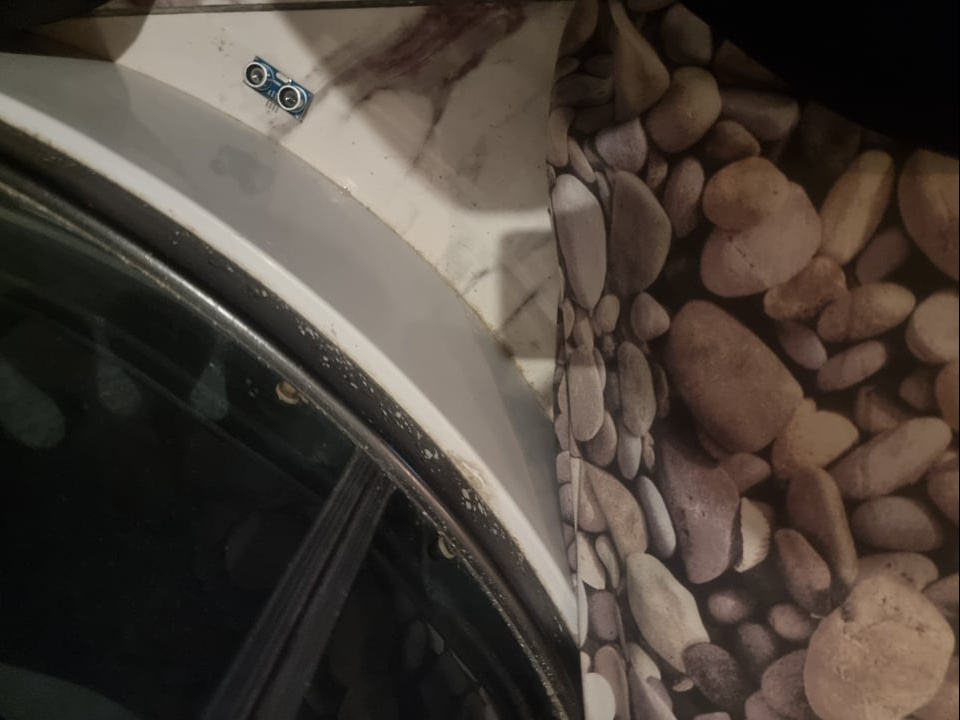SENSOR: (242, 54, 314, 122)
